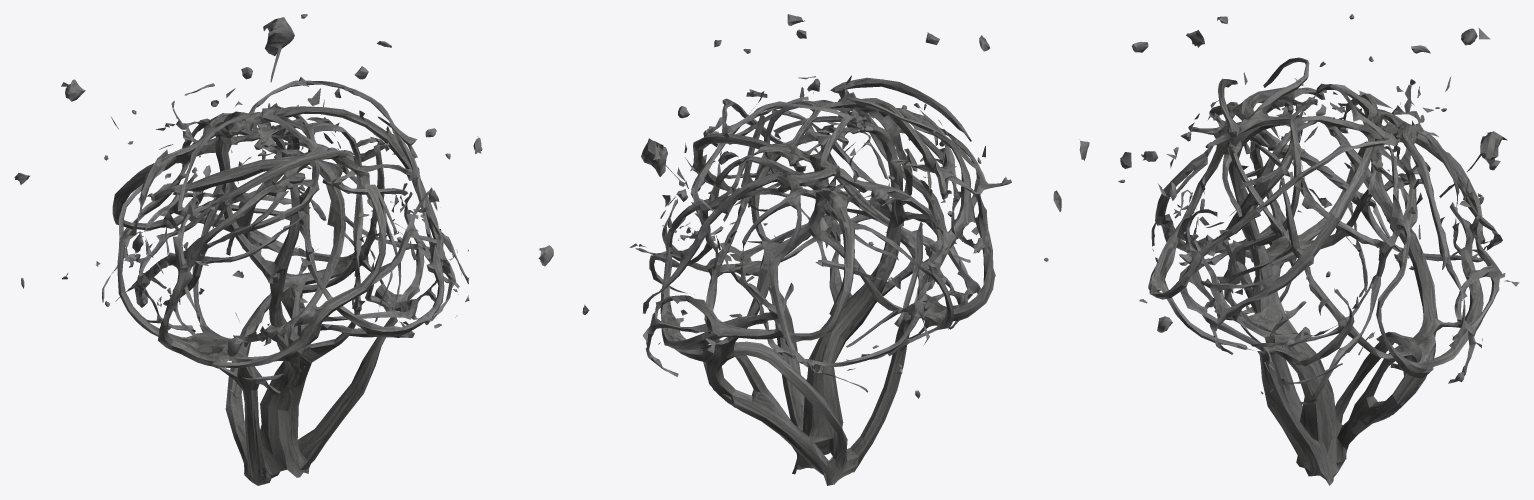
Rendered from wh-bramble-meshy.glb.
3 renders of one model, left to right at view 1: azimuth 30°, elevation 25°; view 2: azimuth 150°, elevation 25°; view 3: azimuth 270°, elevation 25°, orthographic.
Size of the model in its own units: 1.78 by 1.83 by 1.51.
1 material, 1 textured.
